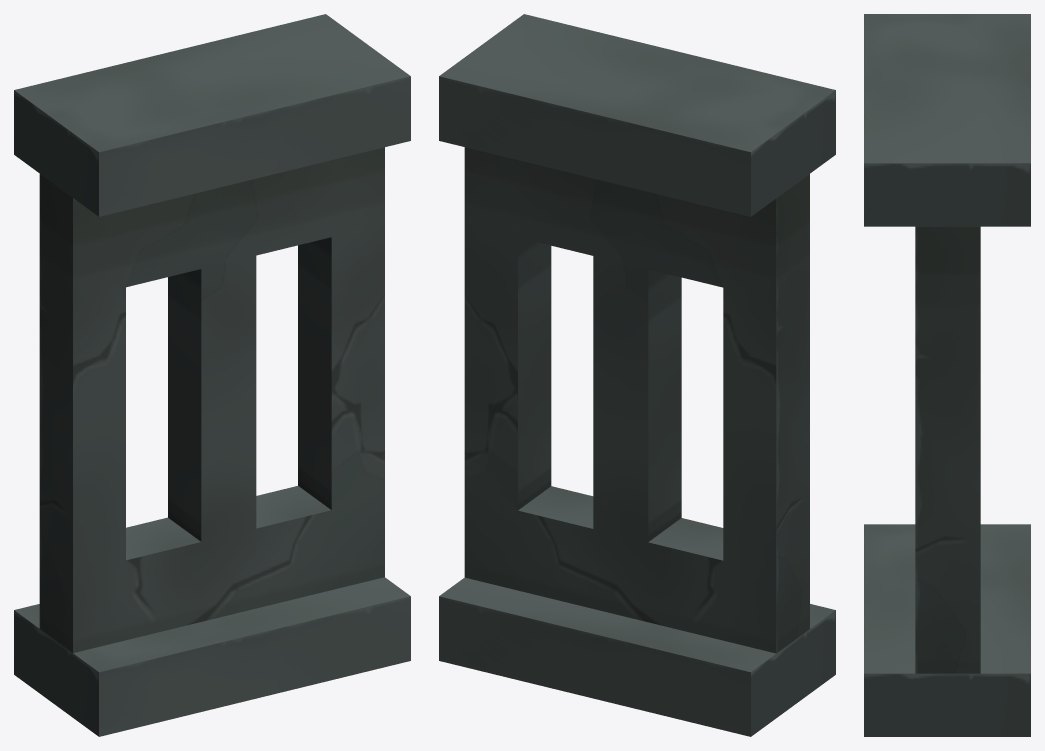
File: Dg_01_StoneObjects_010.FBX
3 renders of one model, left to right at view 1: azimuth 30°, elevation 25°; view 2: azimuth 150°, elevation 25°; view 3: azimuth 270°, elevation 25°, orthographic.
Visible parts, largest first — view 1: Dg_01_StoneObjects_010; view 2: Dg_01_StoneObjects_010; view 3: Dg_01_StoneObjects_010.
Boxes of the visible parts, left/top/right/bottom form: Dg_01_StoneObjects_010: left=14, top=14, right=410, bottom=736; Dg_01_StoneObjects_010: left=439, top=14, right=835, bottom=736; Dg_01_StoneObjects_010: left=864, top=14, right=1030, bottom=736.
Size of the model in its own units: 1.08 by 1.93 by 0.5103.
